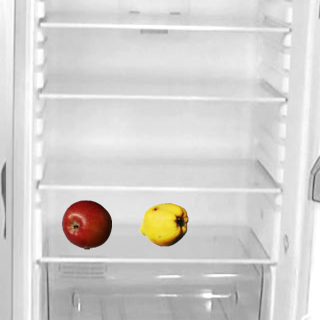Apple Braeburn: (61, 199, 111, 249)
Quince: (138, 199, 188, 249)
